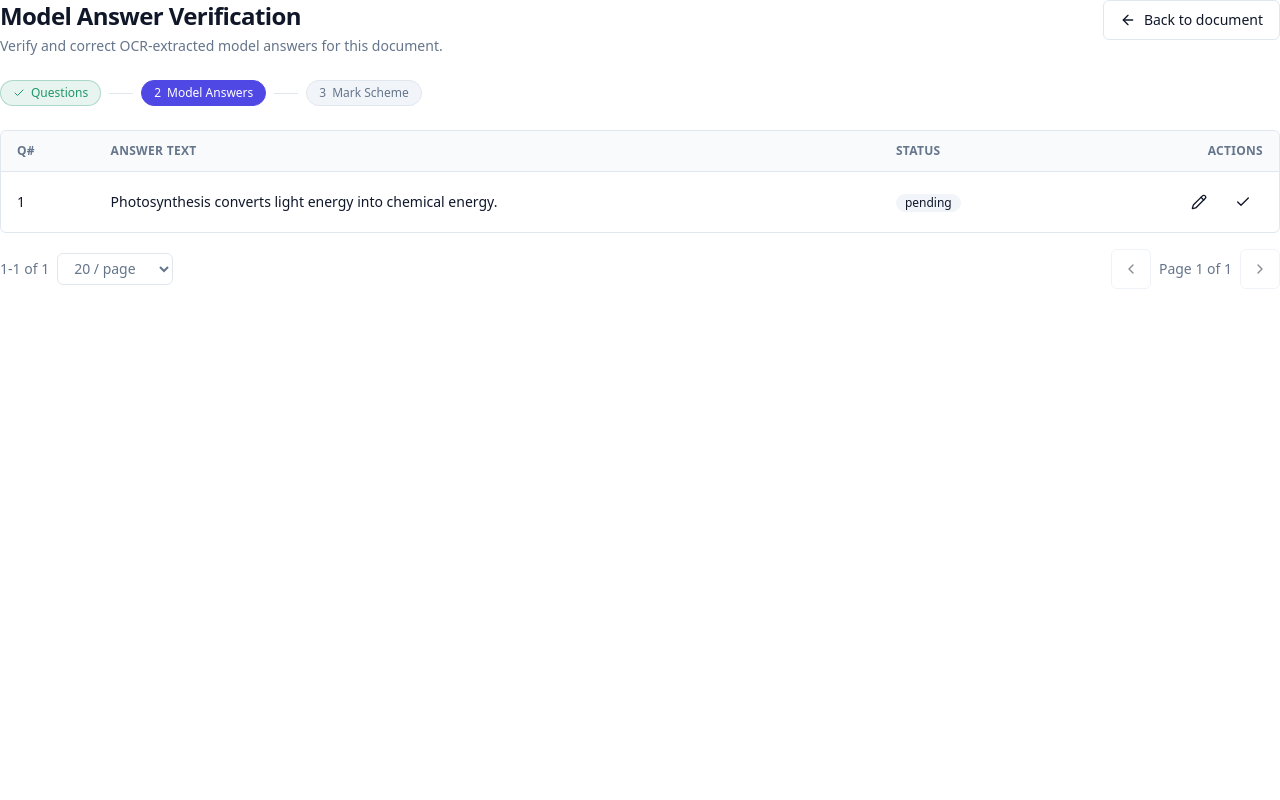
Test: ModelAnswerVerificationPage › edits a model answer via the form dialog
Check: the text "Photosynthesis converts light energy into chemical energy." is shown, box [95, 171, 880, 232]
Click the button named "Edit model answer 1".
click(1199, 202)  # box [1179, 182, 1219, 222]
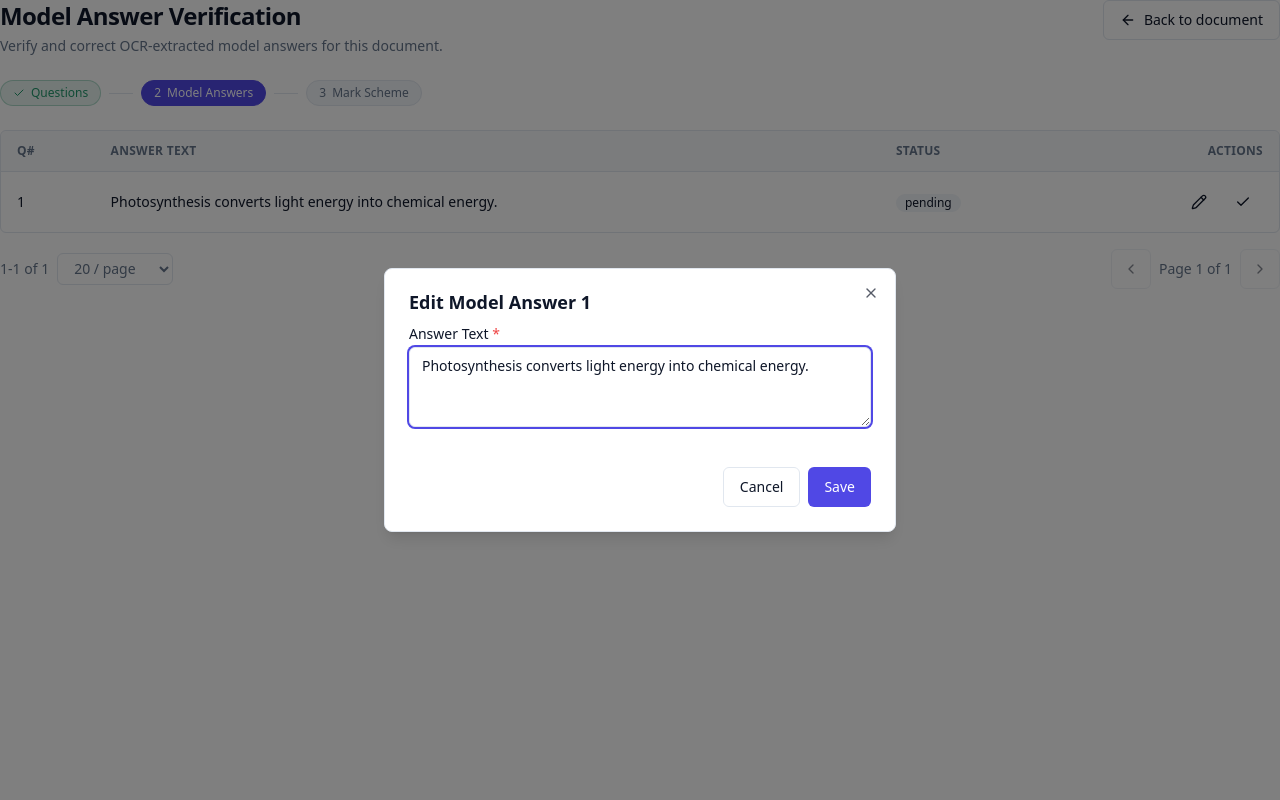
Replace the text in the text box labelled "Answer Text *" with "Updated answer text." at x=640, y=387, box [409, 347, 871, 427]
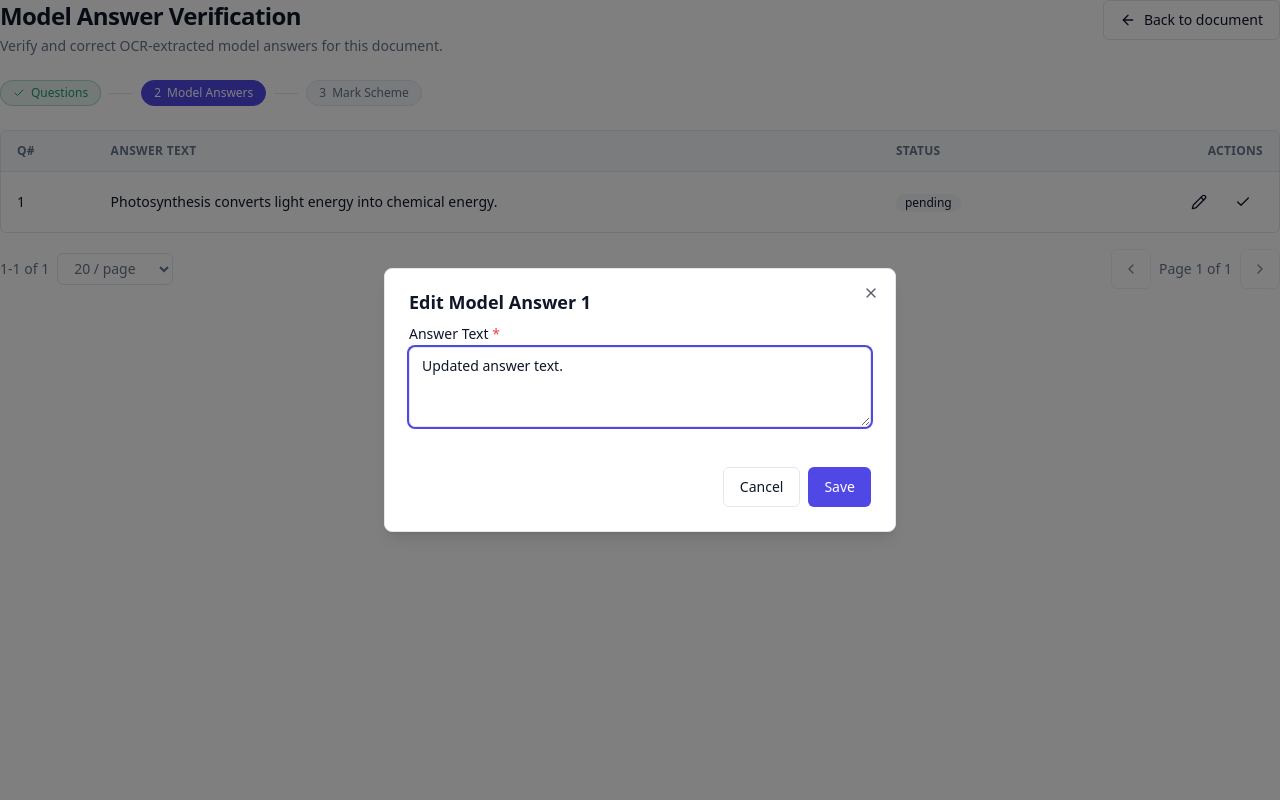
Click the button "Save".
click(840, 487)  # box [808, 467, 871, 507]
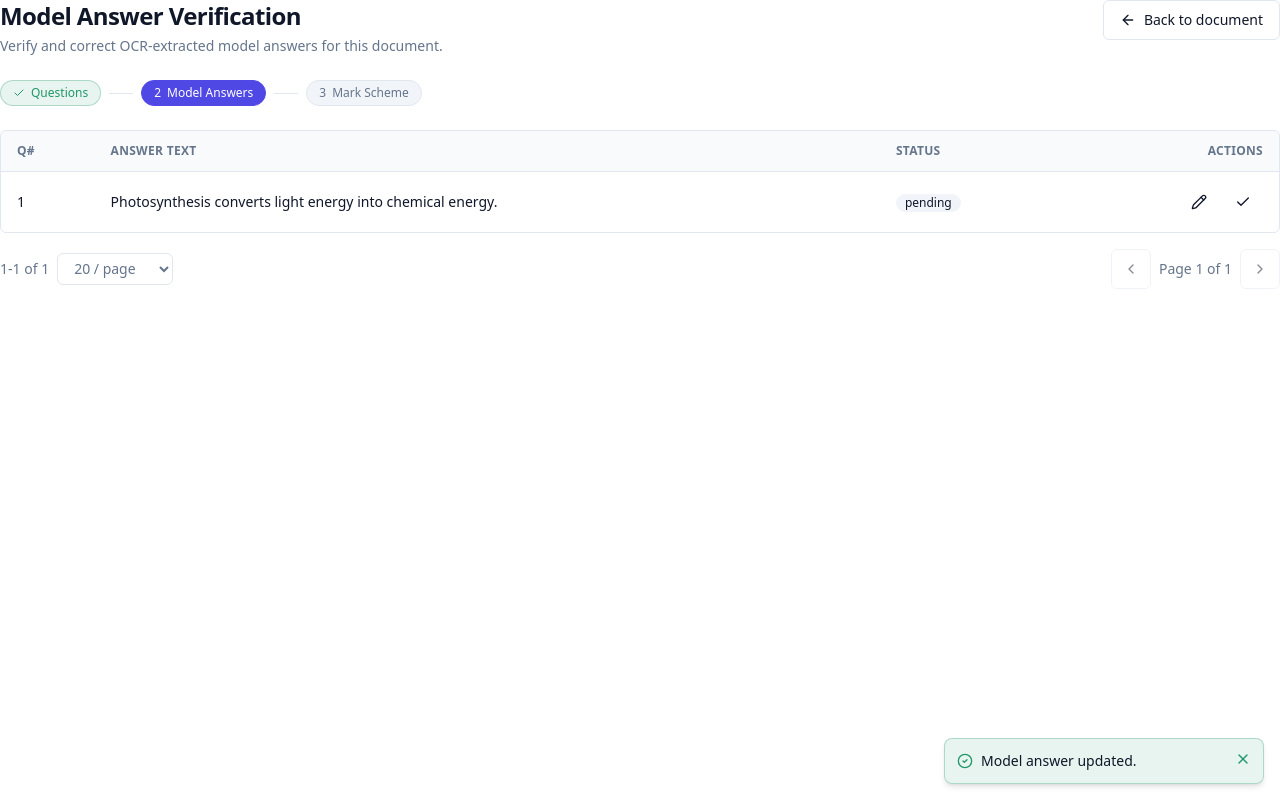
Check: the text "Model answer updated." is shown, box [981, 751, 1136, 770]
